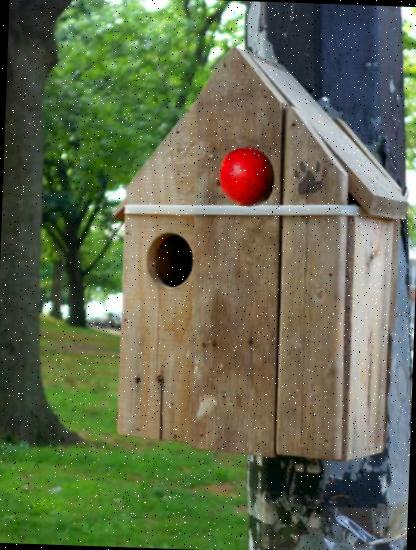Nectarine: (217, 146, 278, 209)
